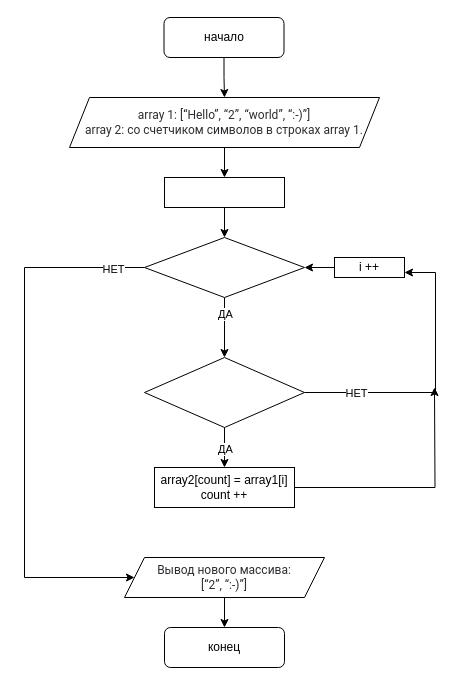
The diagram is 461 pixels wide and 685 high, and some of its shapes have lost their labels. The shapes that lost their labels are listed below. From the top down, each one's box as (x1, y1, x2, y2) in pixels, then its label:
(164, 176, 284, 208): count = 0 i = 0
(144, 236, 304, 298): i < array1.Length
(144, 356, 304, 428): array1[i].Length <= 3
